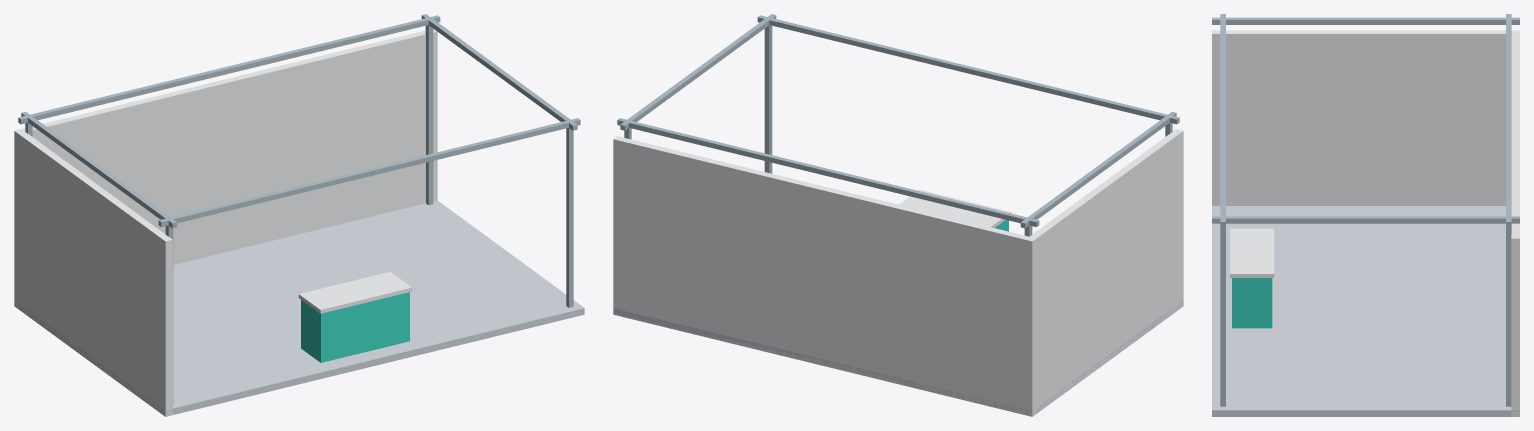
3 views of the same model, side by side, from view 1: azimuth 30°, elevation 25°; view 2: azimuth 150°, elevation 25°; view 3: azimuth 270°, elevation 25° (orthographic).
Visible parts, largest first — view 1: Exhibition Booth Concept; view 2: Exhibition Booth Concept; view 3: Exhibition Booth Concept.
Boxes of the visible parts, left/top/right/bottom form: Exhibition Booth Concept: left=14, top=14, right=584, bottom=416; Exhibition Booth Concept: left=613, top=14, right=1183, bottom=416; Exhibition Booth Concept: left=1212, top=14, right=1519, bottom=416.
Size of the model in its own units: 8 by 3.49 by 5.
